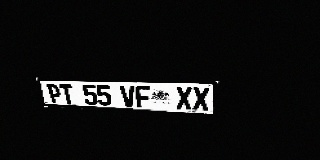plate: (36, 77, 219, 116)
